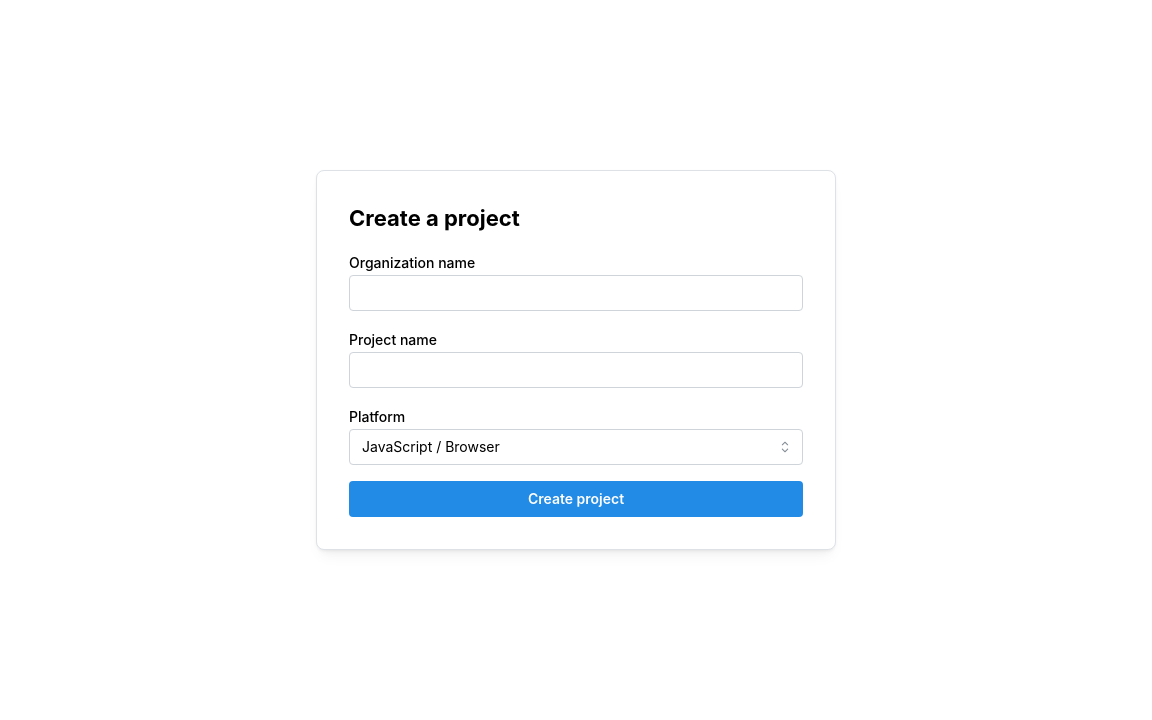
Test case: OnboardingPage › runs org → atomic project+DSN and shows the DSN modal on success
Type "Acme" into the field labelled "Organization name" at (576, 293), box left=349, top=275, right=803, bottom=311
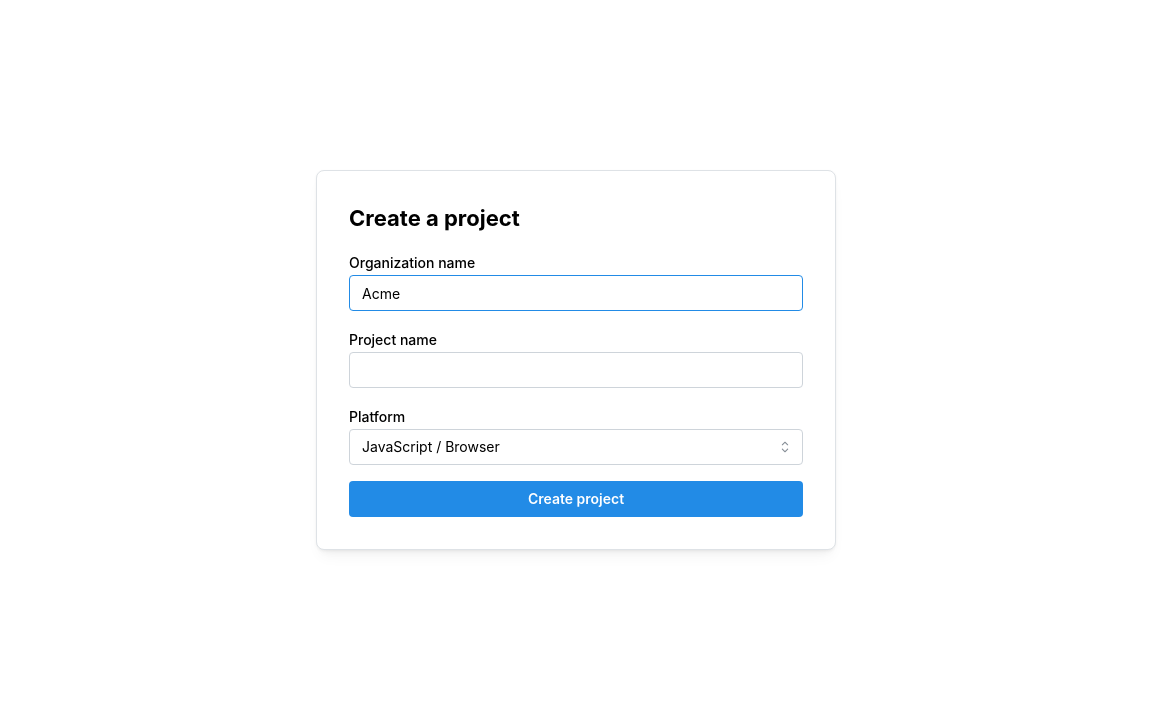
Type "Web" into the field labelled "Project name" at (576, 370), box left=349, top=352, right=803, bottom=388
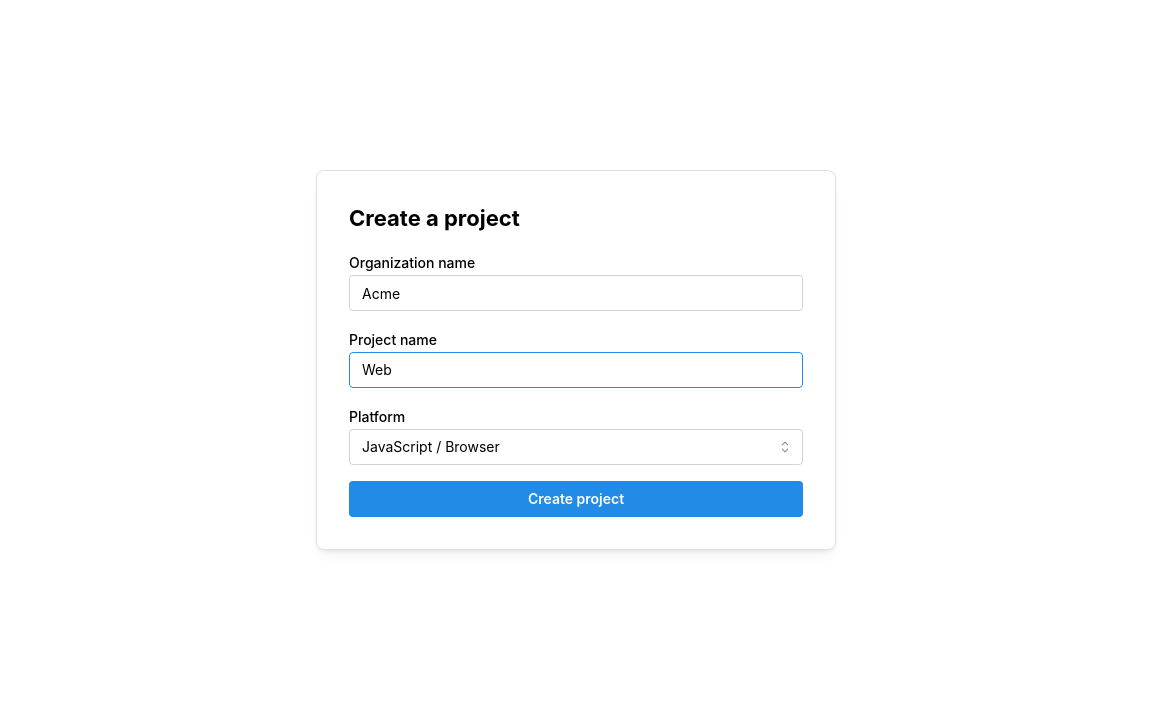
Click the button "Create project" at (576, 499), box left=349, top=481, right=803, bottom=517
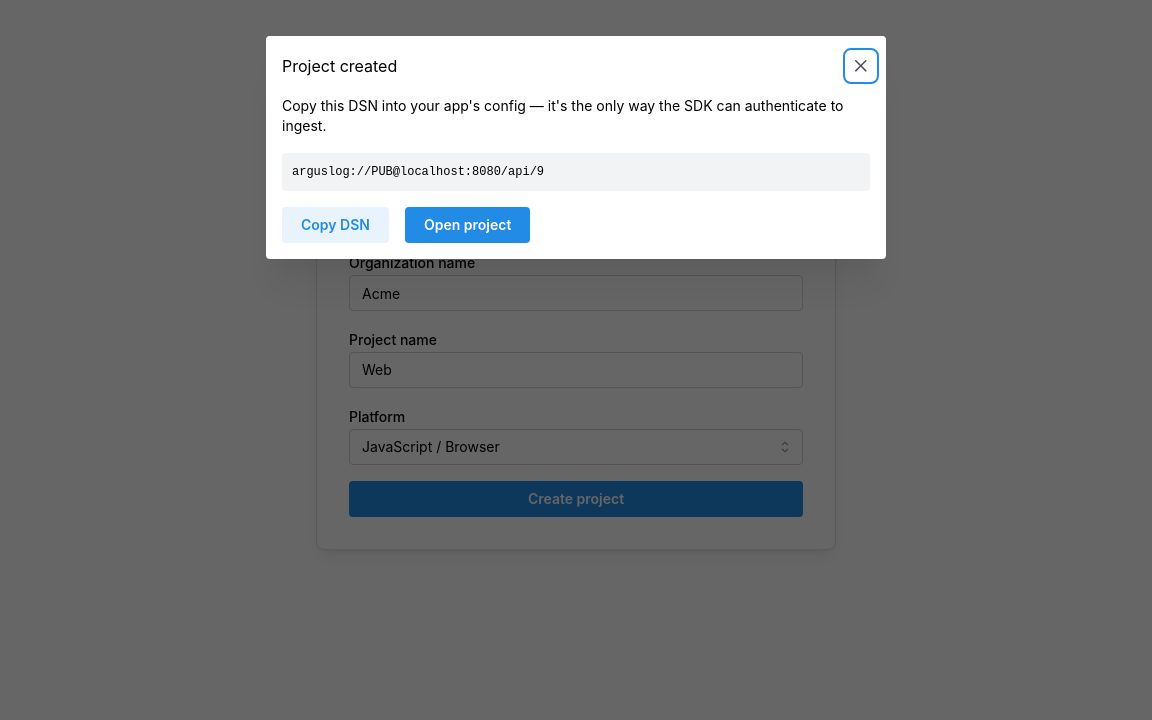
Expected: the text "arguslog://PUB@localhost:8080/api/9" is shown, left=282, top=153, right=870, bottom=191
